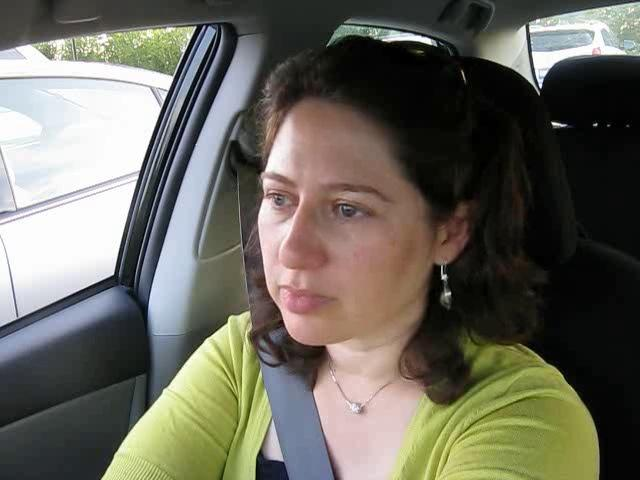no_yawn: (266, 277, 346, 319)
open_eyeL: (253, 180, 303, 220)
open_eyeR: (319, 192, 392, 230)
